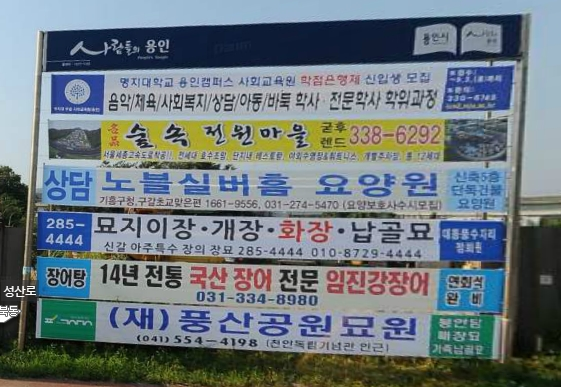banner: (14, 293, 515, 364), (13, 250, 529, 317), (22, 156, 532, 219), (17, 207, 520, 267), (26, 111, 521, 164), (37, 69, 519, 109)
